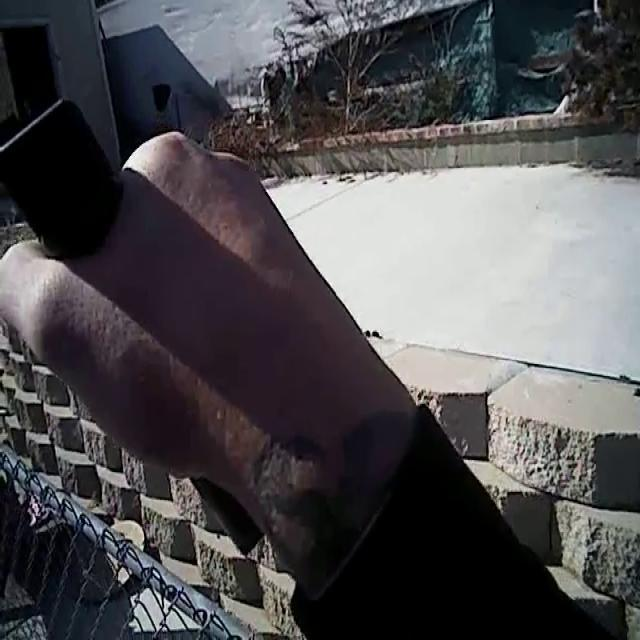gun: (0, 65, 296, 605)
